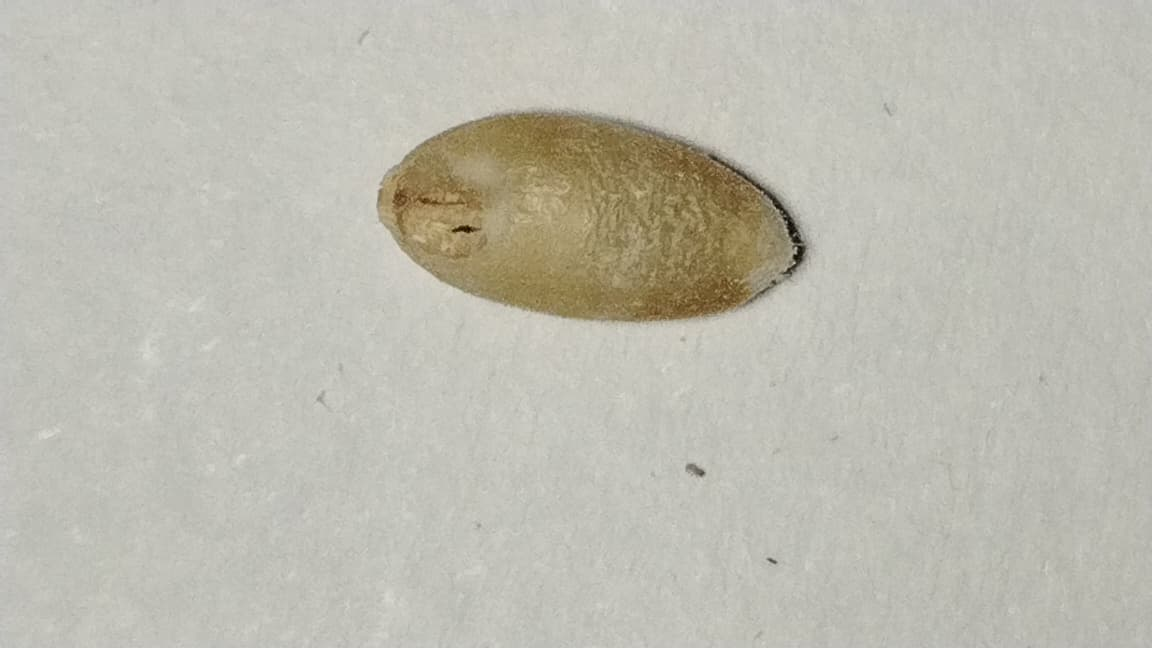damage: (378, 106, 801, 321)
insectdamage: (396, 167, 486, 261)
